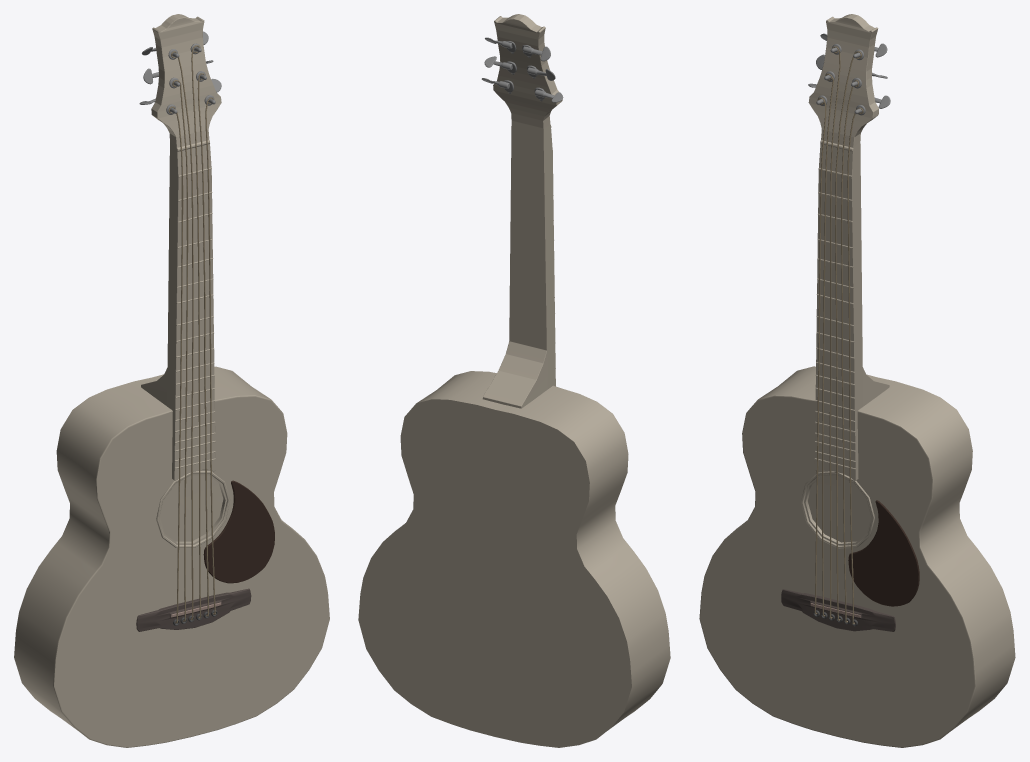
File: Guitar (1).fbx
The picture shows the model from 3 angles, left to right: view 1: azimuth 30°, elevation 25°; view 2: azimuth 150°, elevation 25°; view 3: azimuth 330°, elevation 25°; orthographic projection.
Parts seen in each view (by area): view 1: body, neck, Pick_gaurd, Bridge, G_string, D_string, A_string, B_string, E_string, E_string2, peg1; view 2: body, neck, tuning_peg6; view 3: body, neck, Pick_gaurd, Bridge, D_string, G_string, A_string, B_string, E_string, E_string2.
Boxes of the visible parts, x1=… form: body: x1=14, y1=366, x2=329, y2=747; neck: x1=141, y1=14, x2=221, y2=480; Pick_gaurd: x1=203, y1=480, x2=274, y2=583; Bridge: x1=136, y1=588, x2=251, y2=631; G_string: x1=191, y1=45, x2=201, y2=618; D_string: x1=171, y1=51, x2=193, y2=620; A_string: x1=172, y1=80, x2=188, y2=621; B_string: x1=197, y1=73, x2=208, y2=616; E_string: x1=168, y1=106, x2=183, y2=623; E_string2: x1=205, y1=97, x2=215, y2=614; peg1: x1=166, y1=43, x2=215, y2=114; body: x1=358, y1=371, x2=670, y2=747; neck: x1=482, y1=14, x2=562, y2=408; tuning_peg6: x1=481, y1=37, x2=563, y2=102; body: x1=699, y1=366, x2=1015, y2=747; neck: x1=808, y1=14, x2=889, y2=480; Pick_gaurd: x1=848, y1=500, x2=919, y2=606; Bridge: x1=781, y1=589, x2=895, y2=631; D_string: x1=829, y1=46, x2=840, y2=618; G_string: x1=835, y1=51, x2=861, y2=620; A_string: x1=822, y1=73, x2=833, y2=616; B_string: x1=841, y1=80, x2=859, y2=622; E_string: x1=814, y1=97, x2=826, y2=614; E_string2: x1=847, y1=107, x2=863, y2=624.
Size of the model in its own units: 33.45 by 82.01 by 9.26.
